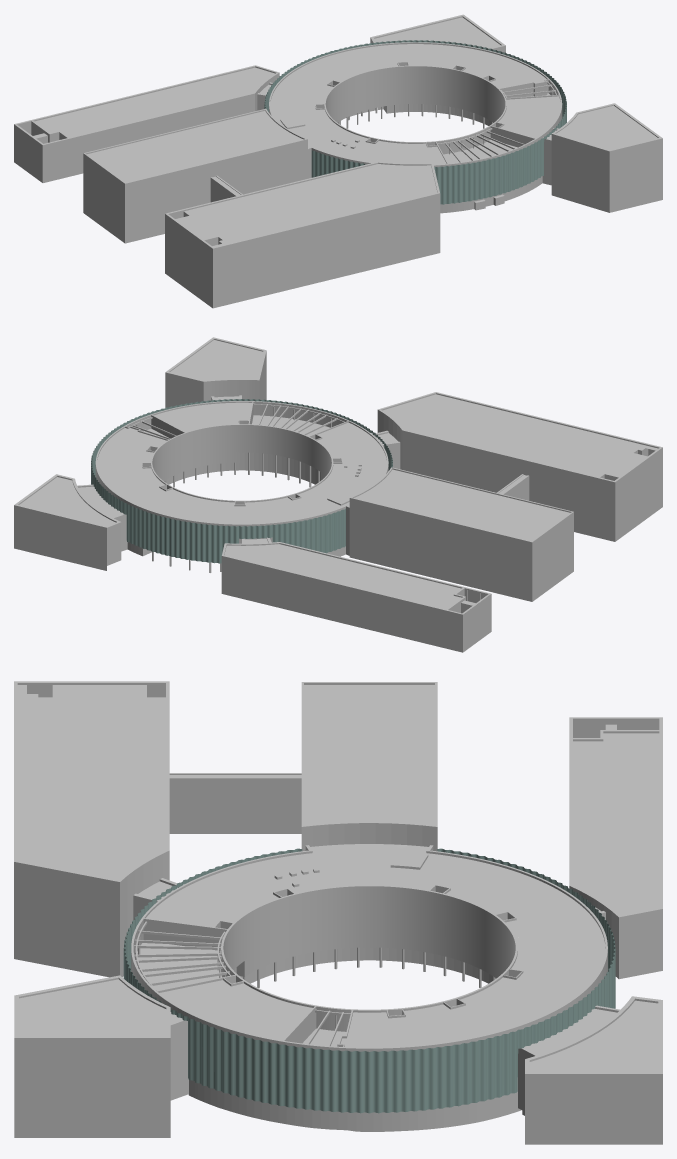
The model's file is simplifier.gltf.
3 views of the same model, one above another, from view 1: azimuth 30°, elevation 25°; view 2: azimuth 150°, elevation 25°; view 3: azimuth 270°, elevation 25° (orthographic). The views are drawn at different scales.
Parts seen in each view (by area): view 1: Atlas_SERVIER, Bande_Serigraphie011; view 2: Atlas_SERVIER, Bande_Serigraphie011; view 3: Atlas_SERVIER, Bande_Serigraphie011.
Boxes of the visible parts, x1=… form: Atlas_SERVIER: x1=14, y1=14, x2=662, y2=308; Bande_Serigraphie011: x1=264, y1=40, x2=566, y2=204; Atlas_SERVIER: x1=14, y1=337, x2=662, y2=652; Bande_Serigraphie011: x1=91, y1=399, x2=392, y2=563; Atlas_SERVIER: x1=14, y1=681, x2=662, y2=1144; Bande_Serigraphie011: x1=123, y1=848, x2=615, y2=1113.
Bounding box in the file's own units: 169 × 23.57 × 130.
